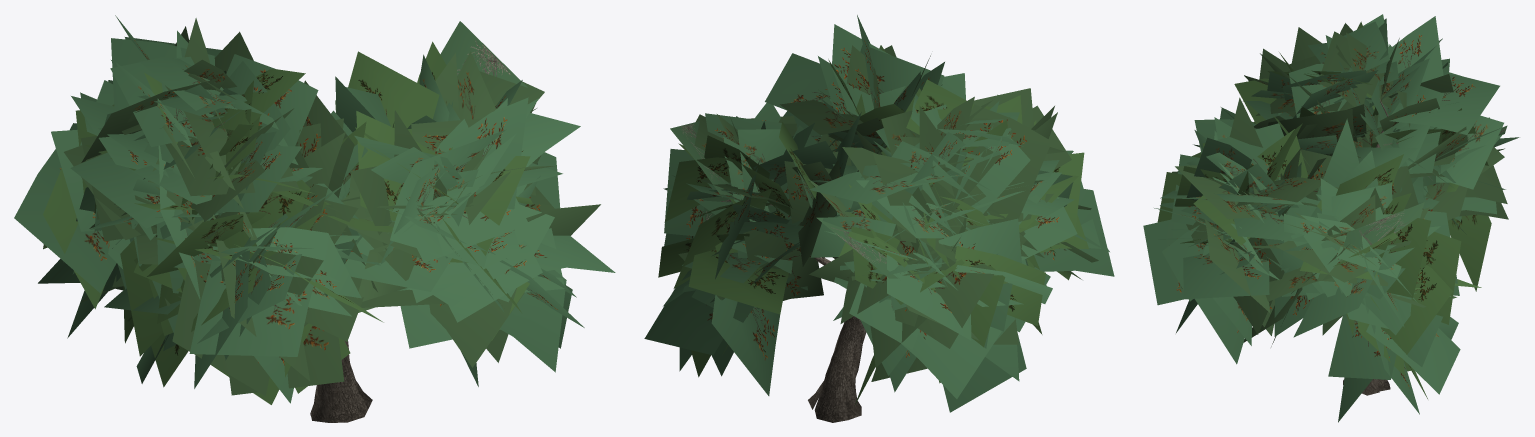
The model's file is tree_v6_oak_healthy_autumn.glb.
The picture shows the model from 3 angles, left to right: view 1: azimuth 30°, elevation 25°; view 2: azimuth 150°, elevation 25°; view 3: azimuth 270°, elevation 25°; orthographic projection. The views are drawn at different scales.
Visible parts, largest first — view 1: tree_v6_oak_healthy_autumn_LOD0; view 2: tree_v6_oak_healthy_autumn_LOD0; view 3: tree_v6_oak_healthy_autumn_LOD0.
Boxes of the visible parts, x1,y1,x2,y2 form: tree_v6_oak_healthy_autumn_LOD0: [14, 15, 615, 422]; tree_v6_oak_healthy_autumn_LOD0: [644, 15, 1114, 422]; tree_v6_oak_healthy_autumn_LOD0: [1143, 14, 1519, 422].
Size of what is drawn, in the model's own units: 12.38 by 9.65 by 10.77.
Materials: 1 (1 with a texture image).
